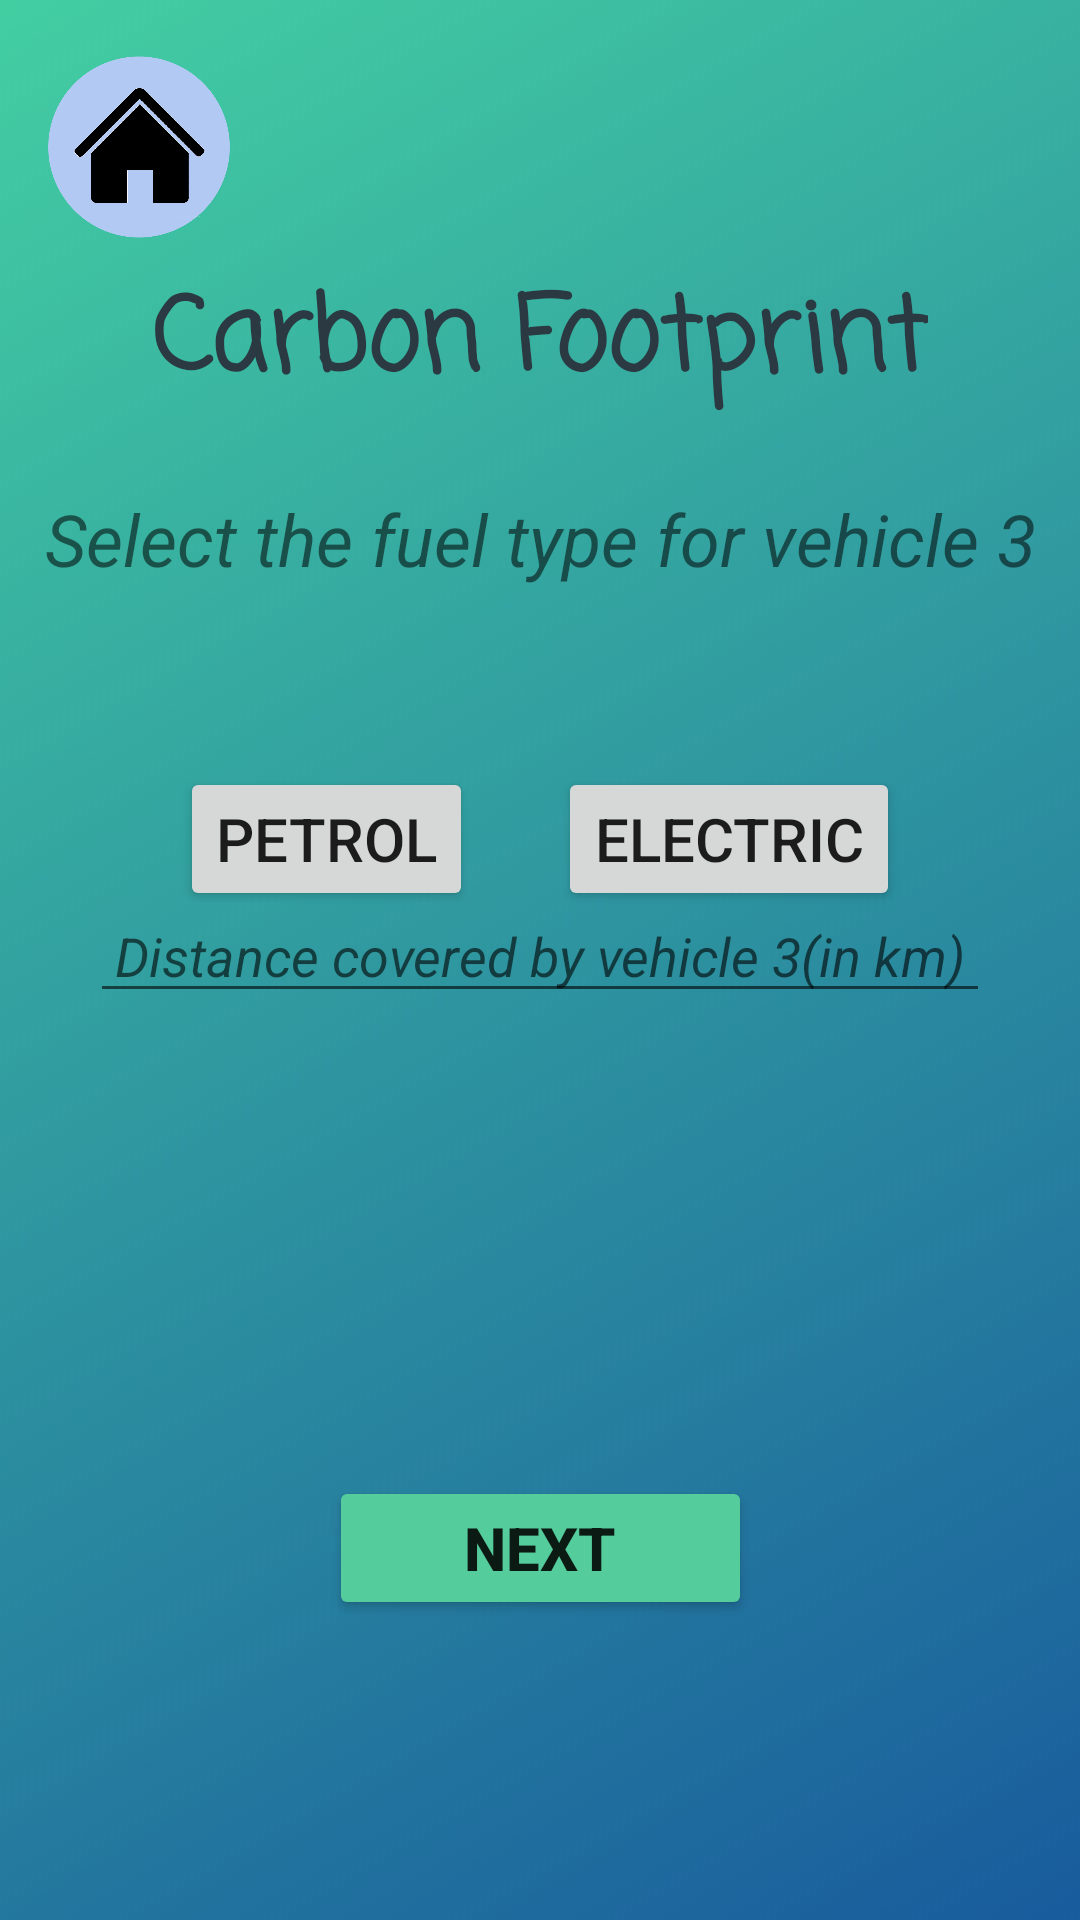

Icon bounding boxes for this 1080w x 1920h phone screenshot, format (x1, y1, x2, y2):
home: (48, 56, 230, 238)
